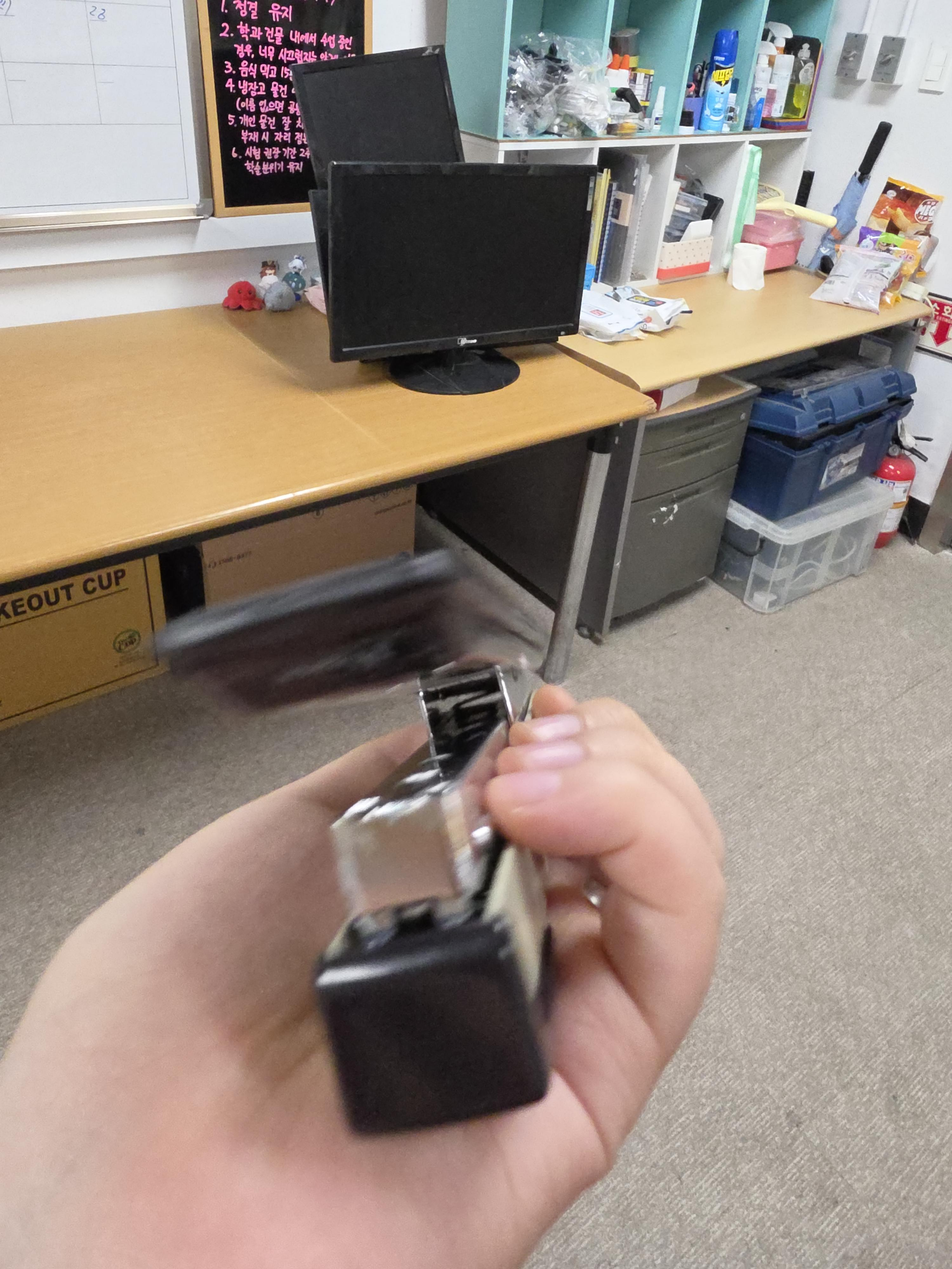stapler: (150, 546, 558, 1136)
tissue: (656, 219, 715, 282), (731, 242, 768, 291)
